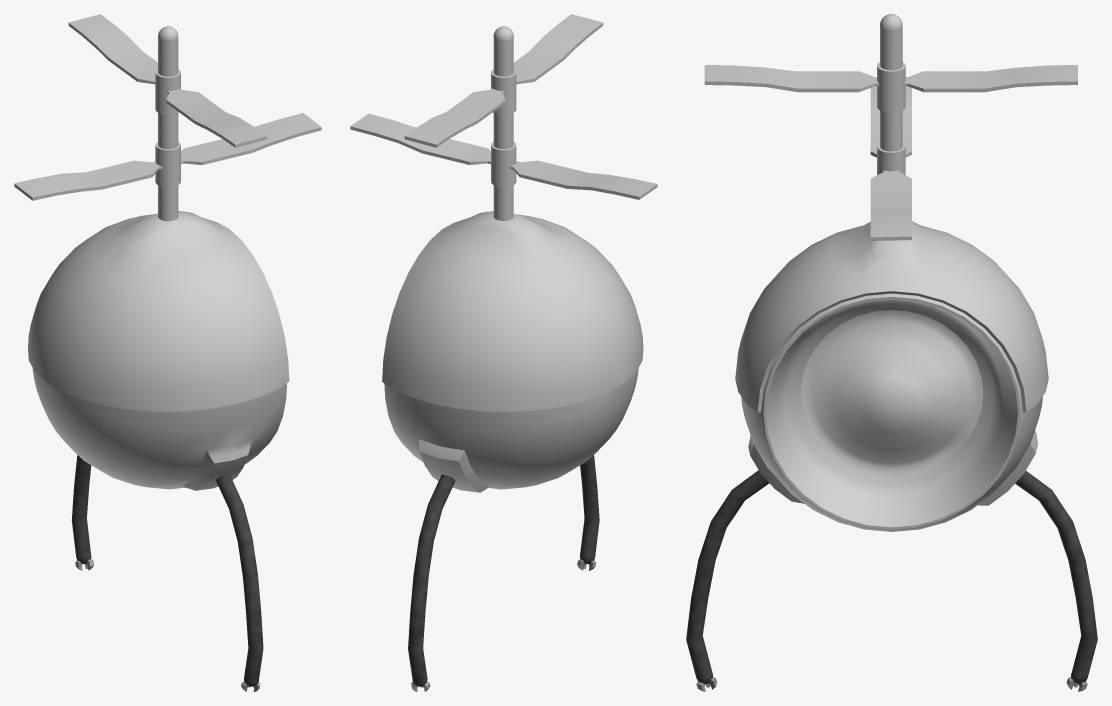
File: Ennemie (1).fbx
3 renders of one model, left to right at view 1: azimuth 30°, elevation 25°; view 2: azimuth 150°, elevation 25°; view 3: azimuth 270°, elevation 25°, orthographic. The views are drawn at different scales.
Parts seen in each view (by area): view 1: Corps, Hélice, Bras Gauche, Bras Droit; view 2: Corps, Hélice, Bras Droit, Bras Gauche; view 3: Corps, Lumiere, Hélice, Bras Gauche, Bras Droit.
Boxes of the visible parts, x1,y1,x2,y2 form: Corps: [28, 211, 289, 490]; Hélice: [14, 14, 321, 221]; Bras Gauche: [216, 474, 263, 691]; Bras Droit: [71, 455, 93, 570]; Corps: [382, 211, 643, 492]; Hélice: [350, 14, 657, 220]; Bras Droit: [408, 474, 455, 691]; Bras Gauche: [577, 455, 599, 570]; Corps: [735, 221, 1048, 531]; Lumiere: [801, 310, 983, 474]; Hélice: [704, 14, 1077, 240]; Bras Gauche: [686, 470, 769, 691]; Bras Droit: [1015, 471, 1097, 691].
Size of the model in its own units: 115 by 230 by 127.
